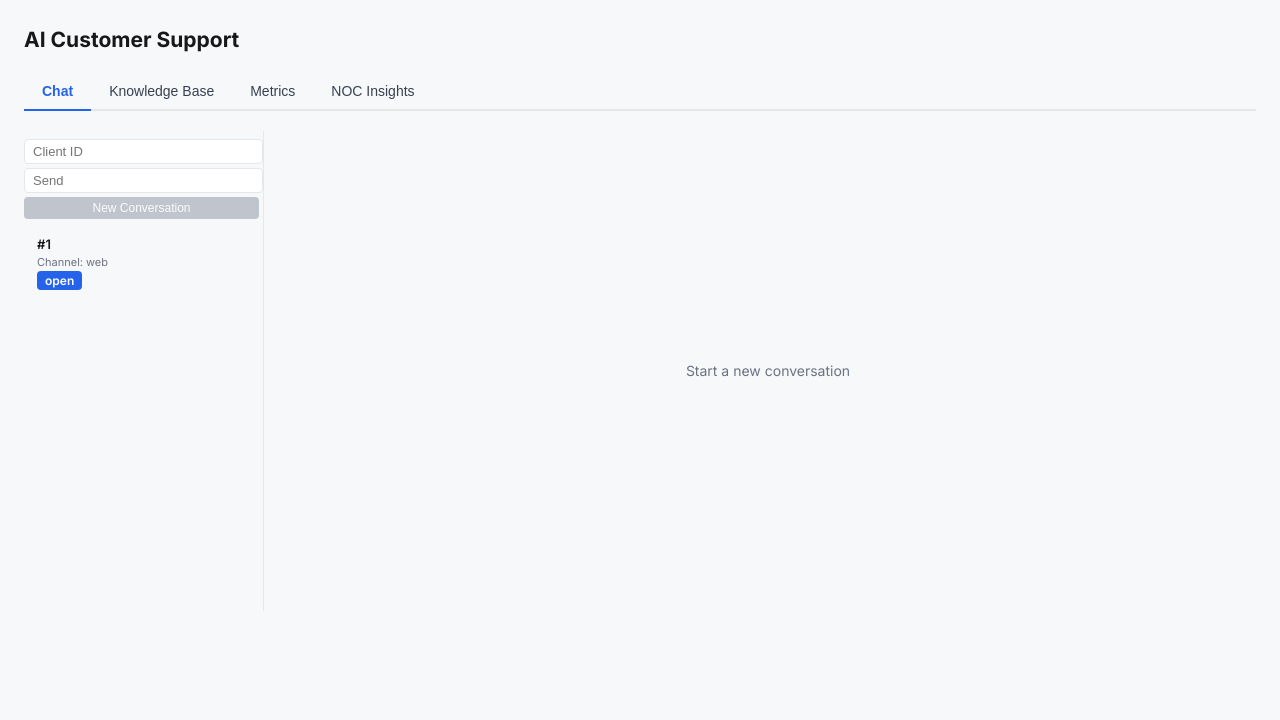
it: AiSupportPage › clicking Knowledge Base tab shows KB content
Step 1. Click the button "Knowledge Base" → (162, 92), box [91, 73, 232, 111]
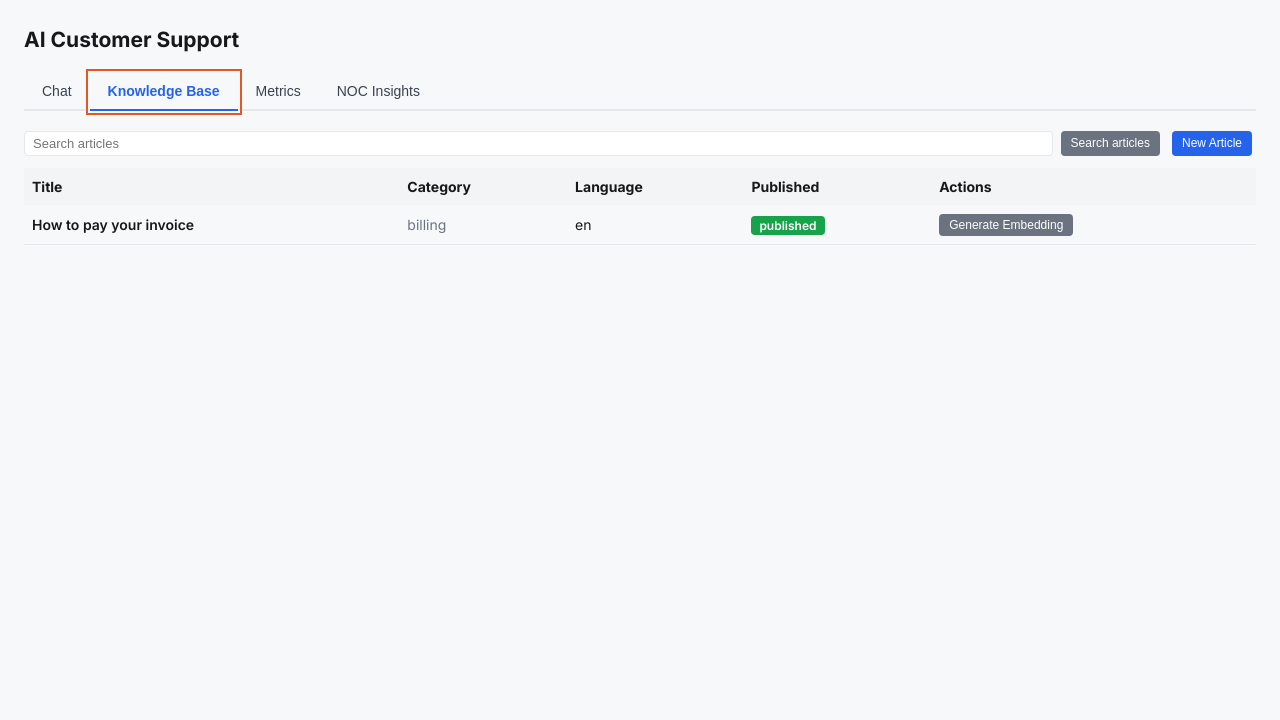
Check: the field with placeholder "Search articles" is shown, box [24, 131, 1053, 156]
